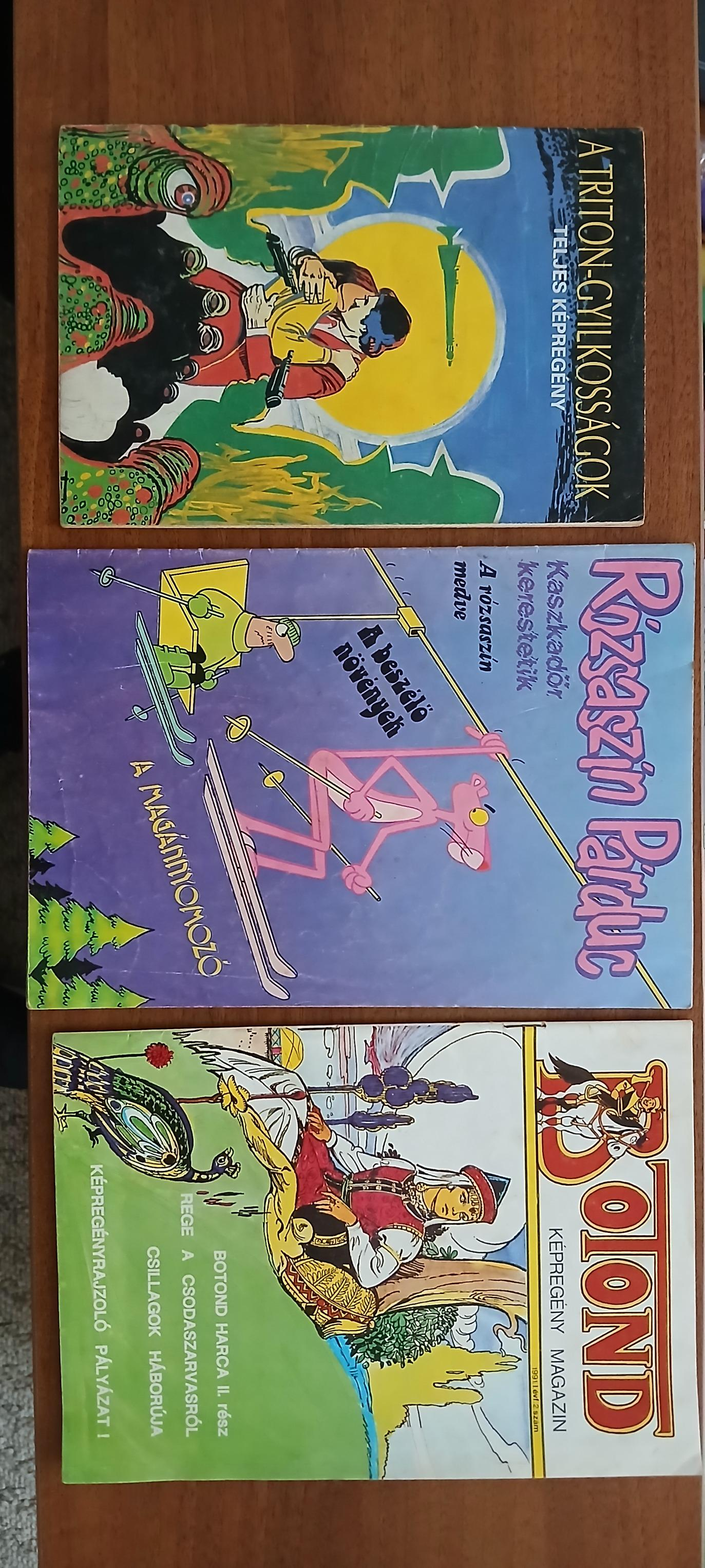comic: (29, 544, 693, 1010), (52, 1016, 700, 1487), (60, 123, 645, 527)
